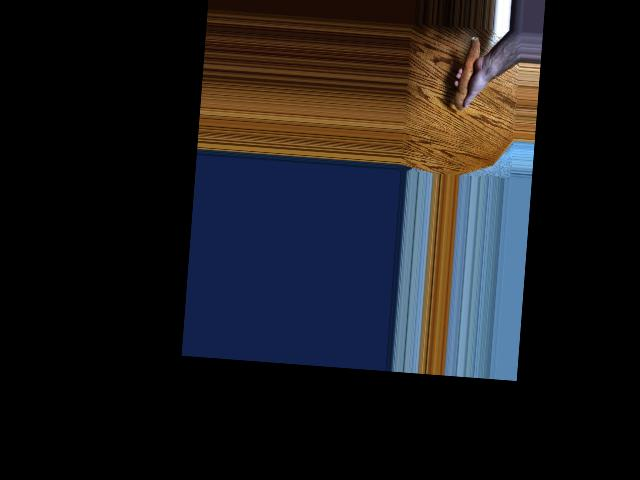sweet_potato: (452, 32, 484, 110)
